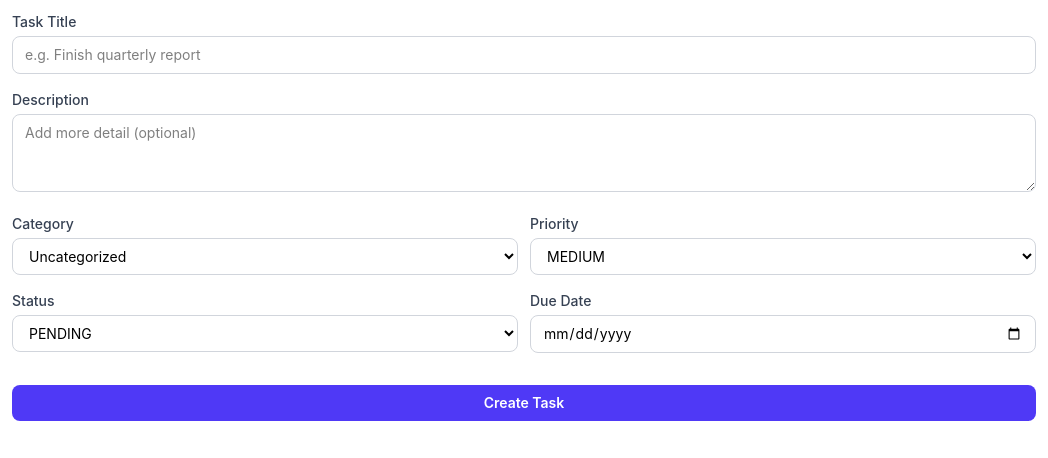
TaskForm › shows a validation error when title is empty
The image size is (1048, 458).
Click the button "Create Task" at (524, 403), box x1=12 y1=385 x2=1036 y2=421
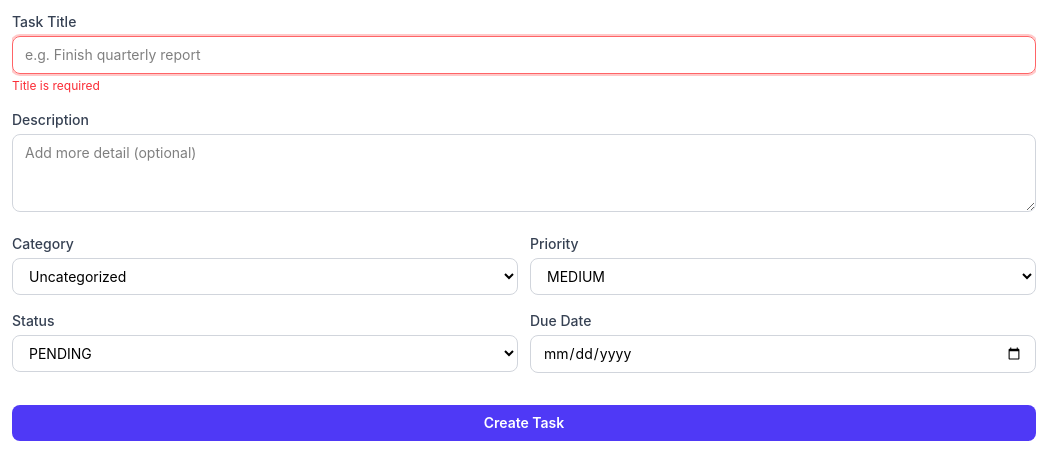
Expected: the text "Title is required" is shown, x1=12 y1=78 x2=100 y2=93
